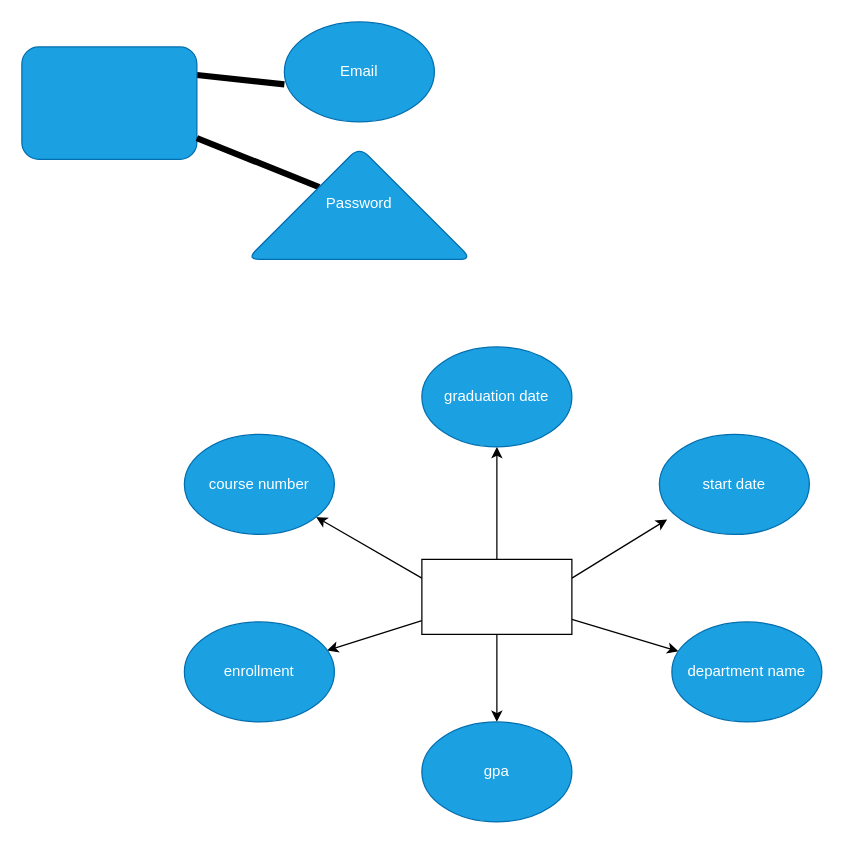
Some shapes in this 844 by 844 pixel diagram are drawn without their labels. Each missing label, with the box of its shape:
course: (421, 558, 572, 634)
User: (21, 46, 197, 159)
